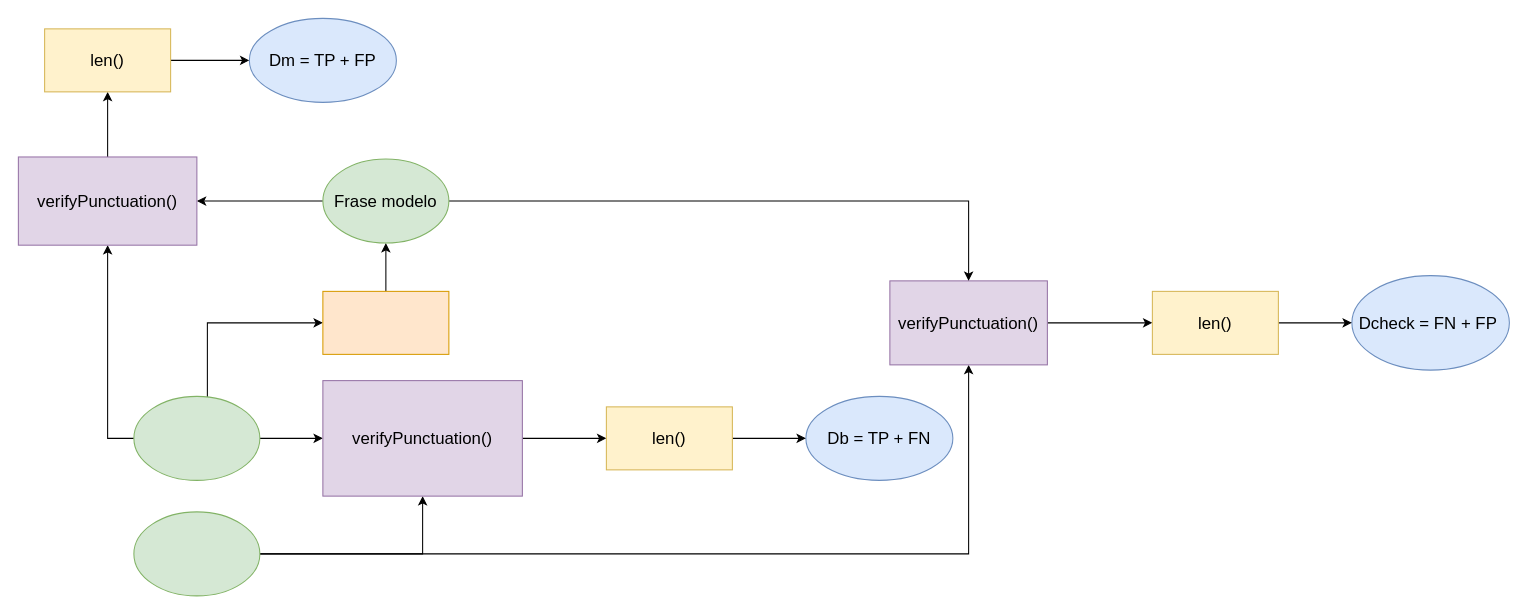
Some shapes in this 1528 by 614 pixel diagram are drawn without their labels. The shapes that lost their labels are listed below. From the top down, each one's centre as x and y in pixels, then its label:
At pixel 385 322: "model()".
At pixel 196 437: "Frase Test".
At pixel 196 553: "Frase Check".
